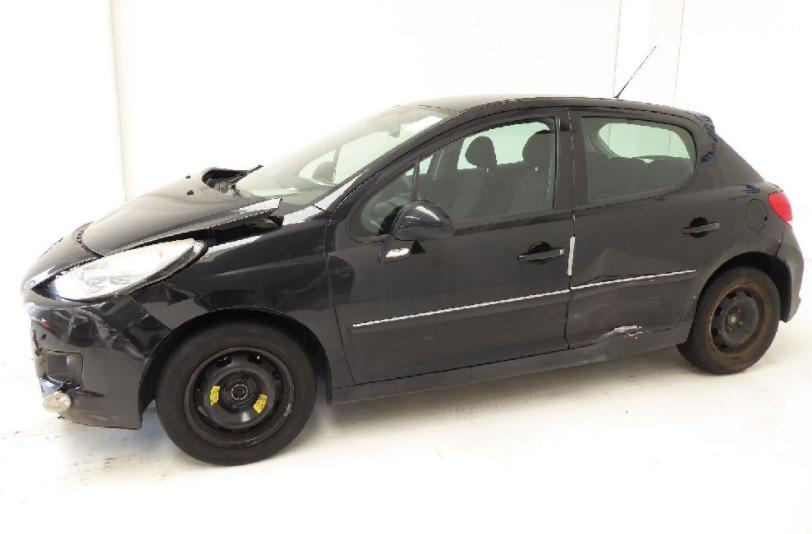Back-bumper: (777, 223, 804, 323)
Back-door: (566, 106, 726, 350)
Back-wheel: (676, 262, 781, 377)
Back-window: (581, 118, 697, 204)
Fender: (130, 204, 355, 387)
Front-bumper: (23, 290, 170, 429)
Front-door: (323, 107, 574, 384)
Front-wheel: (155, 318, 316, 465)
Front-window: (350, 117, 557, 238)
Headlight: (44, 239, 204, 303)
Hood: (20, 167, 283, 293)
Mirror: (378, 199, 455, 263)
Quarter-panel: (677, 182, 785, 328)
Rocker-panel: (329, 323, 693, 405)
Roof: (396, 94, 619, 114)
Tail-light: (770, 190, 792, 229)
Windshield: (231, 105, 462, 217)
